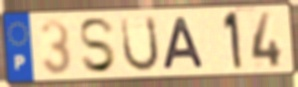1: (221, 9, 244, 73)
3: (39, 17, 72, 79)
4: (249, 10, 287, 70)
A: (161, 15, 207, 72)
S: (77, 16, 118, 76)
U: (119, 15, 162, 75)
